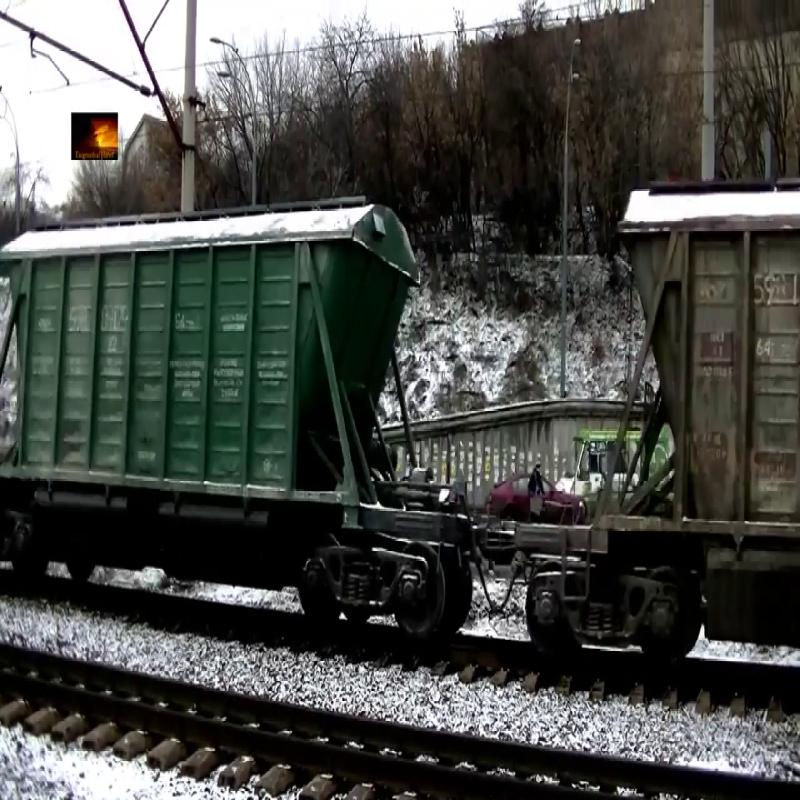train: (3, 196, 421, 538), (585, 170, 800, 595)
